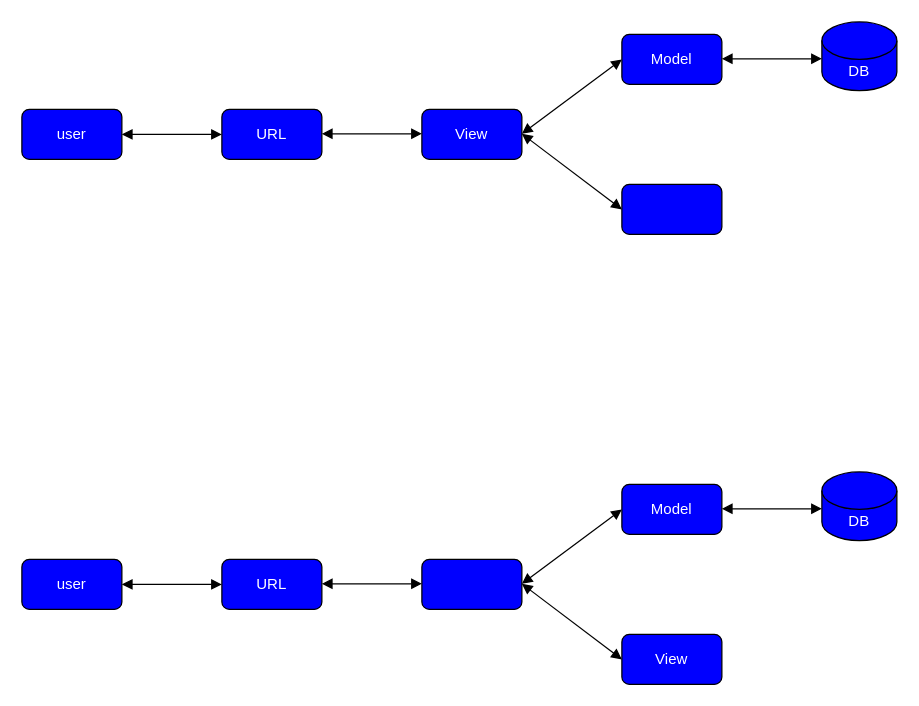
Some shapes in this 919 by 706 pixel diagram are drawn without their labels. The centre of each missing label's shape, as x and y in pixels:
Controller: (x=471, y=583)
Template: (x=671, y=208)
